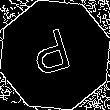P_S: (30, 25, 80, 85)
